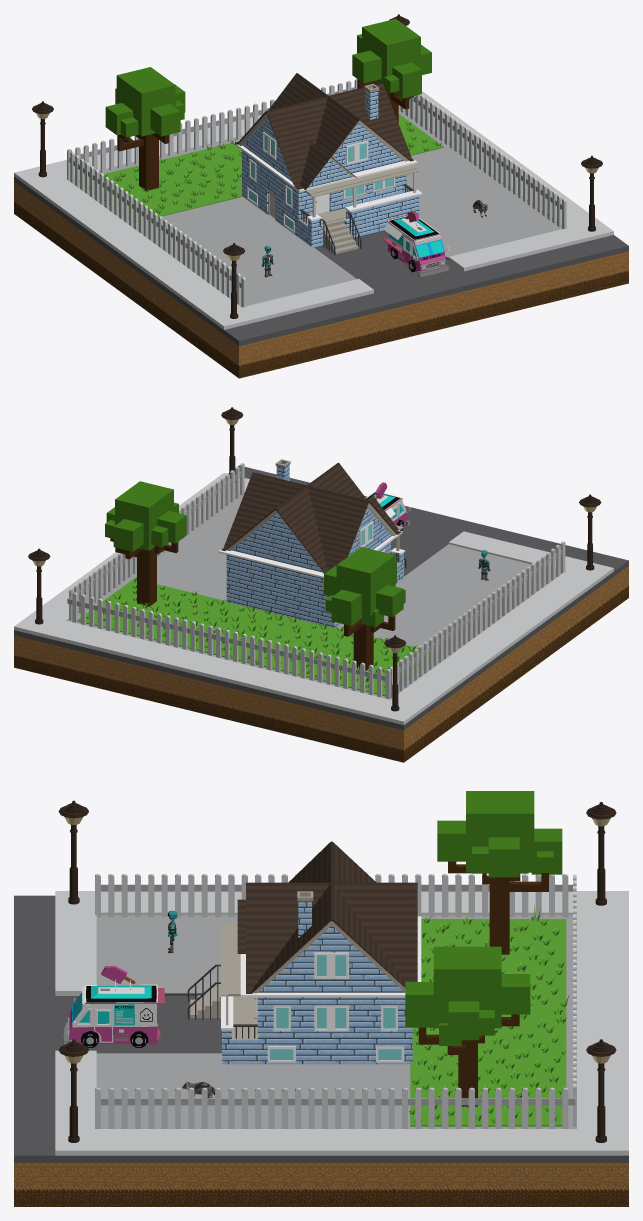
3 views of the same model, one above another, from view 1: azimuth 30°, elevation 25°; view 2: azimuth 150°, elevation 25°; view 3: azimuth 270°, elevation 25° (orthographic). The views are drawn at different scales.
Parts seen in each view (by area): view 1: Cube.004, Cube.547, VEHICLES_ICE_CREAM_TRUCK; view 2: Cube.004, Cube.547, VEHICLES_ICE_CREAM_TRUCK; view 3: Cube.004, Cube.547, VEHICLES_ICE_CREAM_TRUCK.
Part boxes in pixels (x1,y1,x2,y2): Cube.004: (14,14,628,378); Cube.547: (233,73,422,255); VEHICLES_ICE_CREAM_TRUCK: (382,211,449,277); Cube.004: (14,407,628,762); Cube.547: (218,459,406,627); VEHICLES_ICE_CREAM_TRUCK: (366,482,410,530); Cube.004: (14,791,628,1206); Cube.547: (187,841,421,1064); VEHICLES_ICE_CREAM_TRUCK: (63,966,164,1047).
Size of the model in its own units: 4000 by 1604 by 4000.
Materials: 40 (4 with a texture image).
